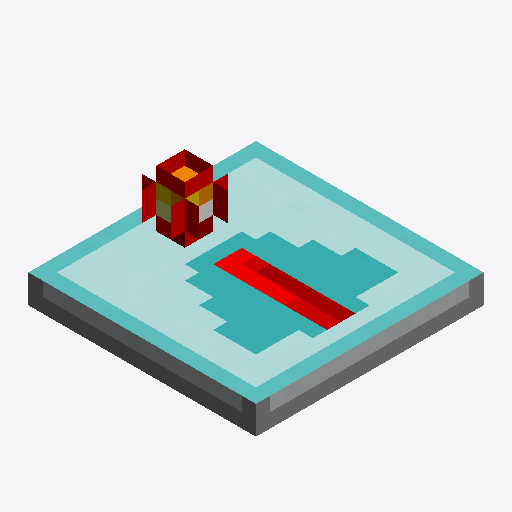
Isometric view (azimuth 45°, elevation 35.3°) of a Minecraft model made of 4 cuboids, textured from the same repository.
Visible parts, largest first — element 1, element 3, element 4.
Part boxes in pixels (x1,y1,x2,y2): element 1: (28,141,483,435); element 3: (142,150,227,247); element 4: (142,149,227,246).
Bounding box in the file's own units: 16 × 6 × 16.